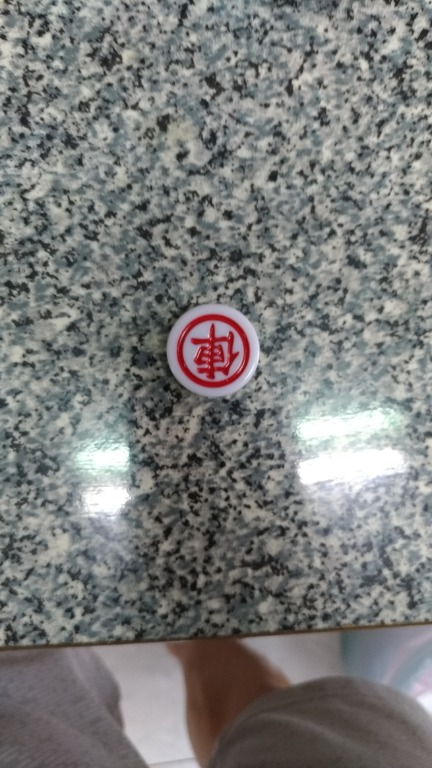r-rook: (153, 290, 288, 409)
